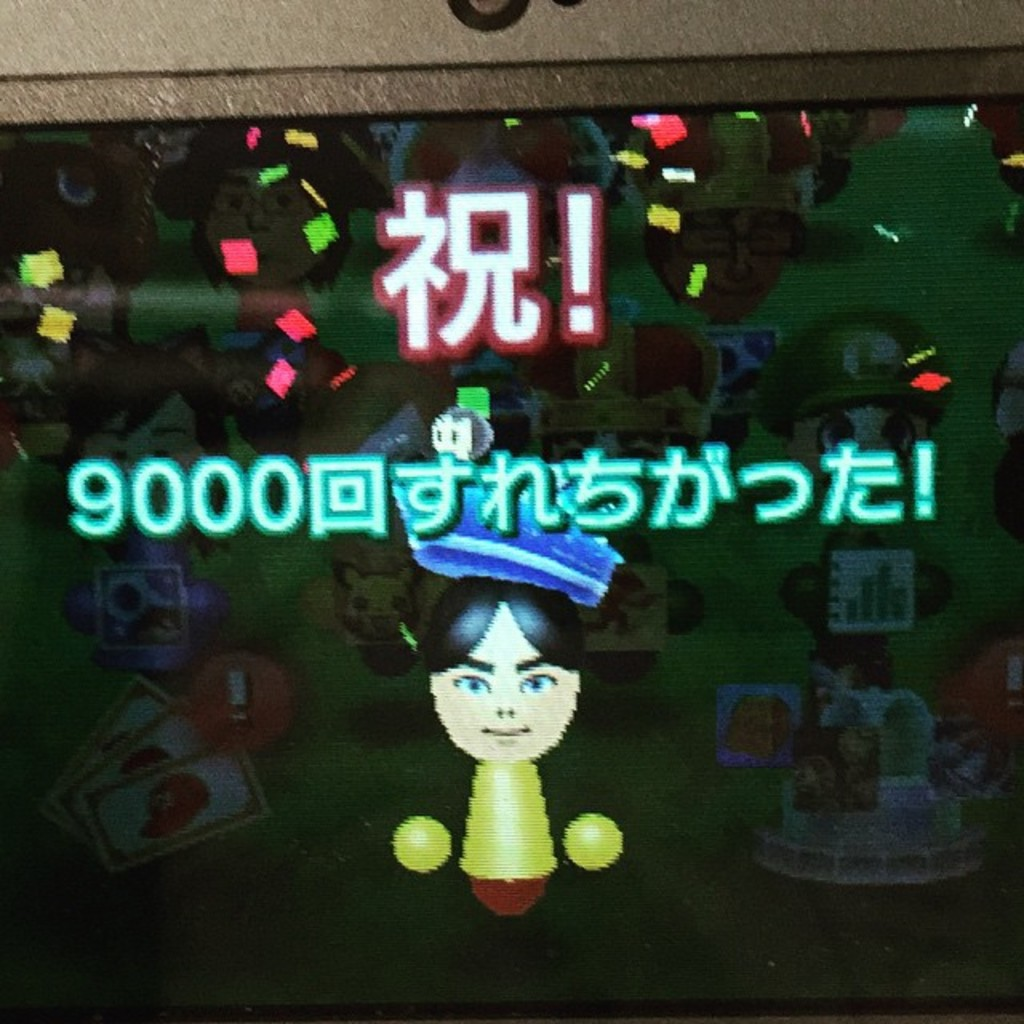Ball: (390, 811, 456, 875), (560, 811, 626, 870)
